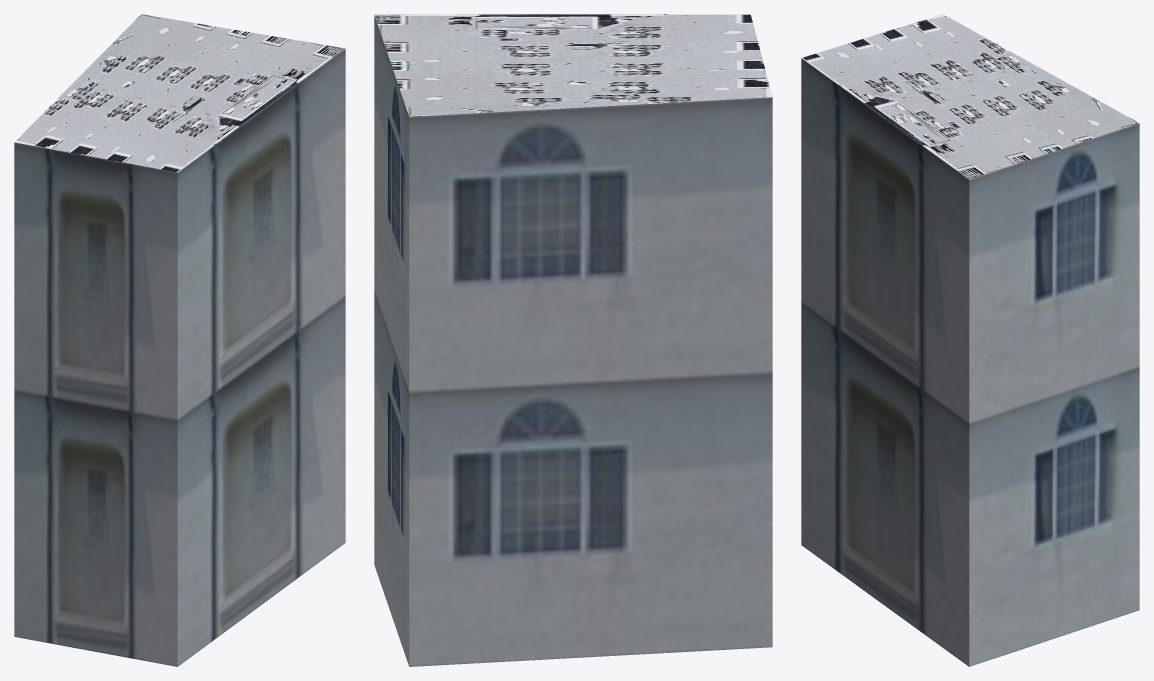
The model's file is ResTex__1439.fbx.
3 views of the same model, side by side, from view 1: azimuth 30°, elevation 25°; view 2: azimuth 150°, elevation 25°; view 3: azimuth 270°, elevation 25° (orthographic). The views are drawn at different scales.
Parts seen in each view (by area): view 1: CityEngineMaterial_17_m, CityEngineMaterial_m; view 2: CityEngineMaterial_17_m, CityEngineMaterial_m; view 3: CityEngineMaterial_17_m, CityEngineMaterial_m.
Part boxes in pixels (x1=…): CityEngineMaterial_17_m: x1=14, y1=48, x2=345, y2=666; CityEngineMaterial_m: x1=14, y1=14, x2=345, y2=172; CityEngineMaterial_17_m: x1=374, y1=15, x2=772, y2=666; CityEngineMaterial_m: x1=374, y1=14, x2=772, y2=116; CityEngineMaterial_17_m: x1=801, y1=58, x2=1139, y2=666; CityEngineMaterial_m: x1=802, y1=14, x2=1138, y2=179.
Bounding box in the file's own units: 4.38 × 6 × 3.77.
Materials: 2 (2 with a texture image).
